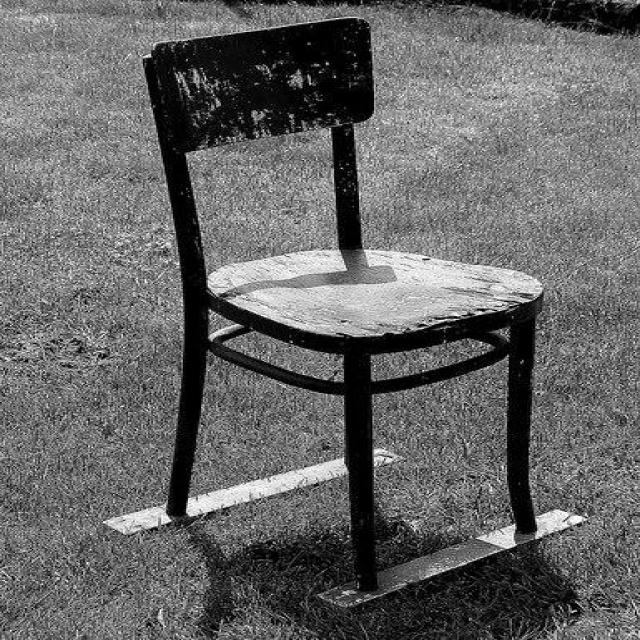chair: (140, 17, 547, 593)
